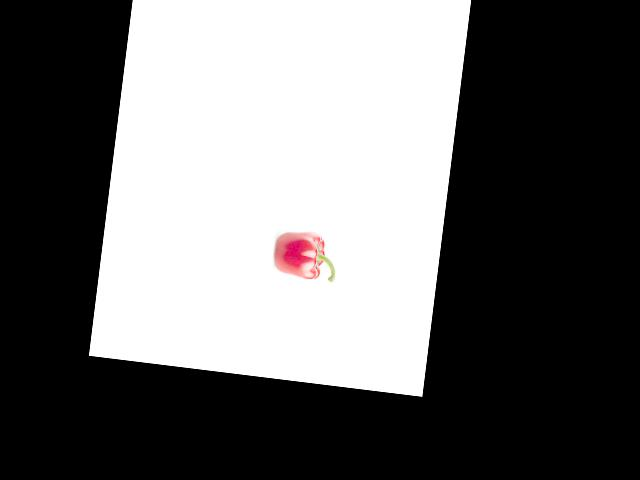bell_pepper: (271, 229, 340, 284)
